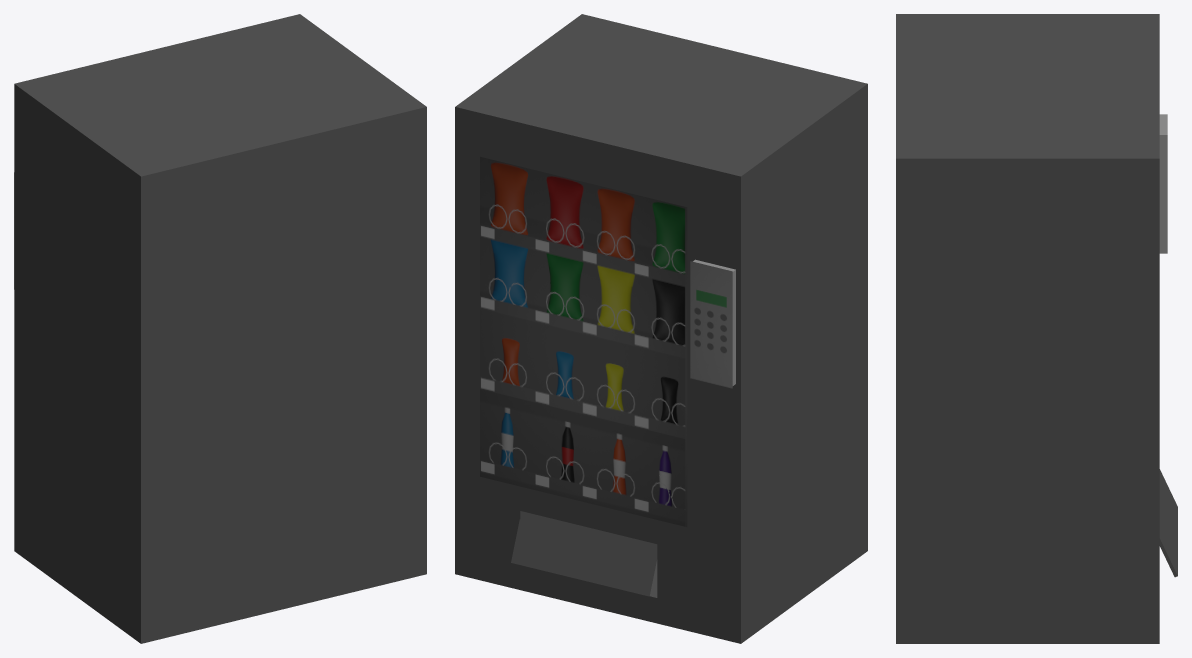
Rendered from pruebaVM.fbx.
3 views of the same model, side by side, from view 1: azimuth 30°, elevation 25°; view 2: azimuth 150°, elevation 25°; view 3: azimuth 270°, elevation 25° (orthographic). The views are drawn at different scales.
Visible parts, largest first — view 1: VendingMachine; view 2: VendingMachine, ItemsMesh, PanelMesh; view 3: VendingMachine.
Boxes of the visible parts, x1,y1,x2,y2 form: VendingMachine: [14, 14, 426, 643]; VendingMachine: [455, 14, 867, 643]; ItemsMesh: [480, 156, 687, 526]; PanelMesh: [690, 261, 732, 388]; VendingMachine: [896, 14, 1177, 643].
Size of the model in its own units: 80 by 125 by 65.79.
